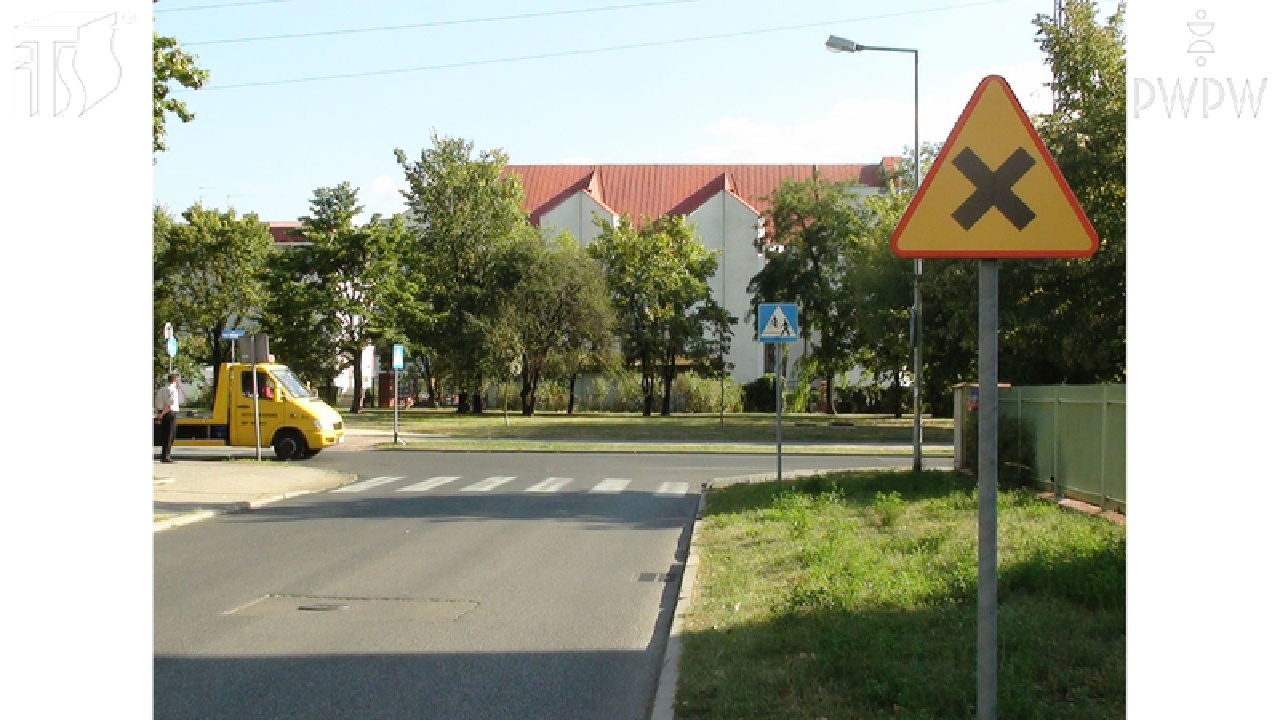A5: (891, 74, 1100, 259)
D6b: (757, 303, 797, 342)
